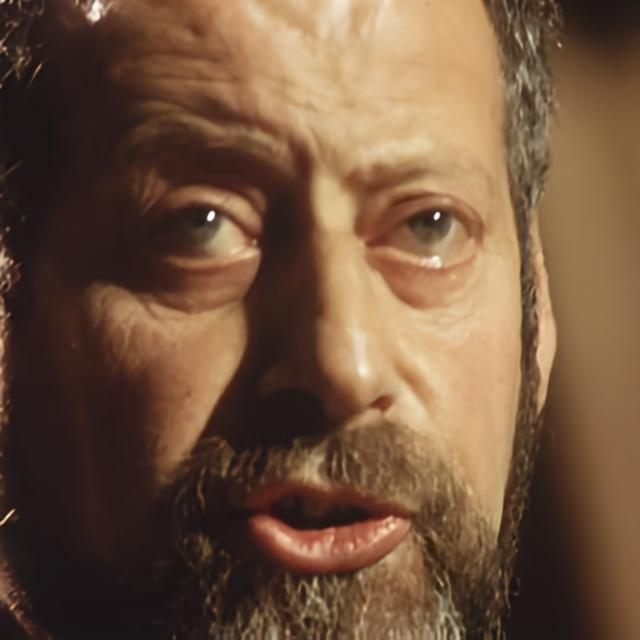anger: (52, 0, 523, 640)
